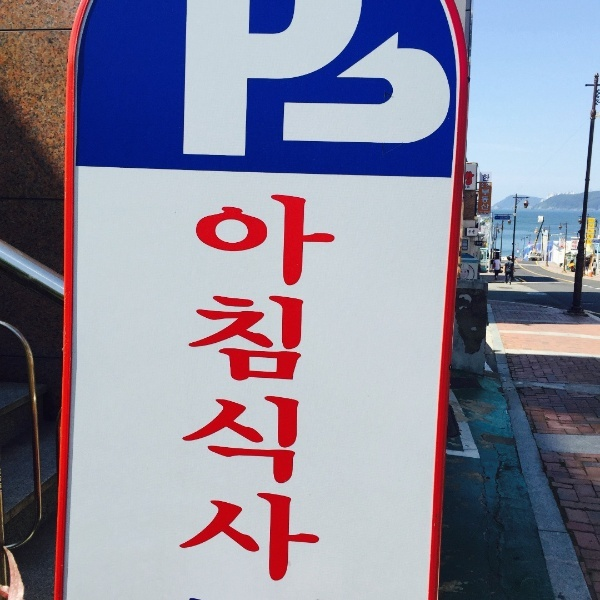text: (209, 190, 224, 591), (225, 190, 240, 591), (241, 190, 256, 591), (257, 190, 272, 591), (273, 190, 288, 591), (289, 190, 304, 591), (305, 190, 320, 591), (321, 190, 336, 591), (198, 190, 208, 591), (193, 2, 208, 166), (209, 2, 224, 166), (225, 2, 240, 166), (241, 2, 256, 166), (257, 2, 272, 166), (273, 2, 288, 166), (289, 2, 304, 166), (305, 2, 320, 166), (321, 2, 336, 166), (337, 2, 352, 166), (353, 2, 365, 166), (184, 2, 192, 166), (337, 190, 340, 591), (482, 189, 496, 212), (465, 171, 475, 186), (482, 174, 496, 182), (481, 183, 496, 188), (469, 230, 480, 234)
